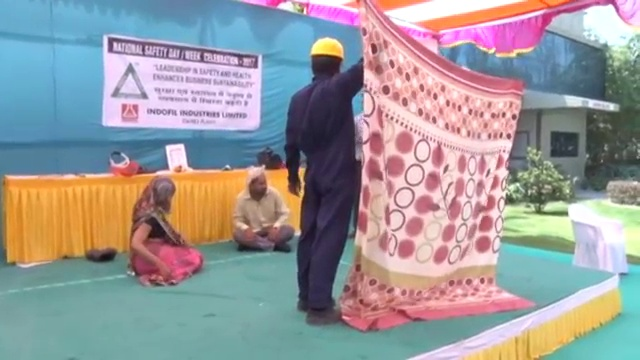helmet: (307, 35, 347, 60)
helmet_off: (141, 174, 178, 208), (244, 165, 270, 201)
helmet_on: (307, 34, 347, 81)
person: (285, 36, 367, 329), (125, 173, 202, 282), (225, 162, 294, 255)
